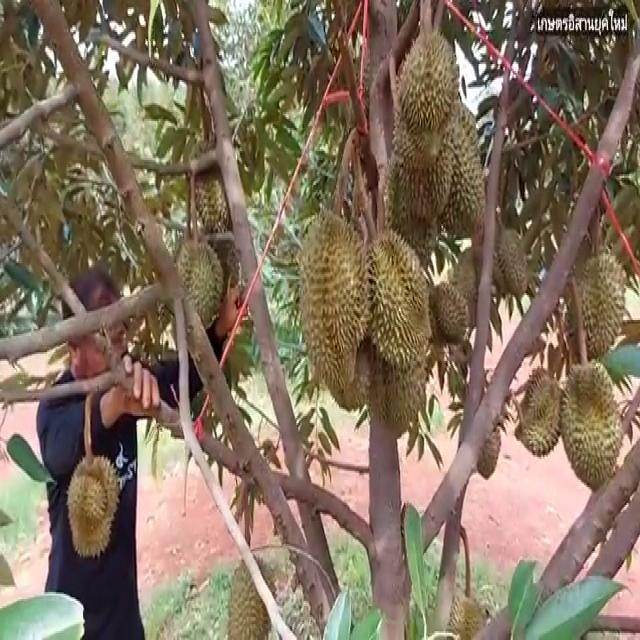durian: (292, 196, 376, 396), (350, 222, 436, 381), (558, 354, 628, 502), (390, 26, 462, 168), (424, 116, 487, 237), (61, 448, 122, 562), (168, 230, 229, 344), (571, 246, 630, 360), (510, 360, 566, 462), (224, 550, 280, 638), (192, 135, 240, 234), (425, 273, 472, 349), (494, 221, 532, 300), (442, 588, 492, 638)
